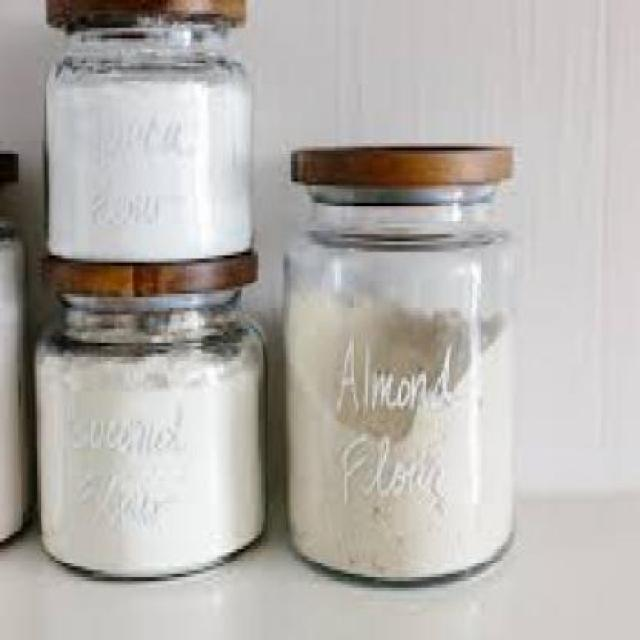kaca: (281, 178, 514, 584), (31, 291, 263, 580), (40, 18, 251, 260), (0, 206, 28, 542)
